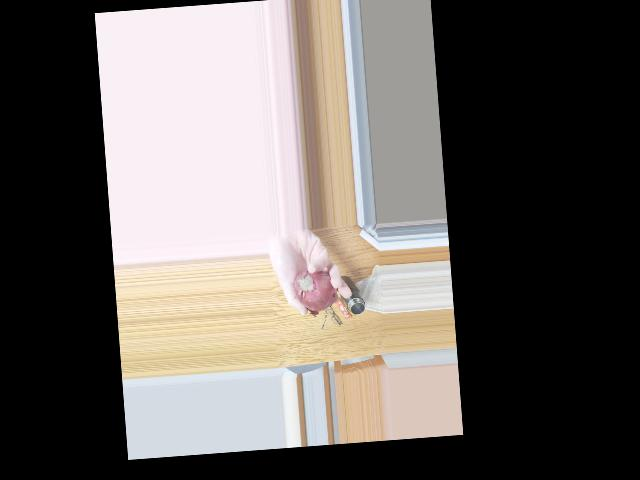onion: (292, 268, 334, 307)
